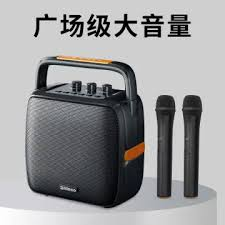microphone: (154, 92, 205, 202)
speaker: (14, 49, 150, 212)
